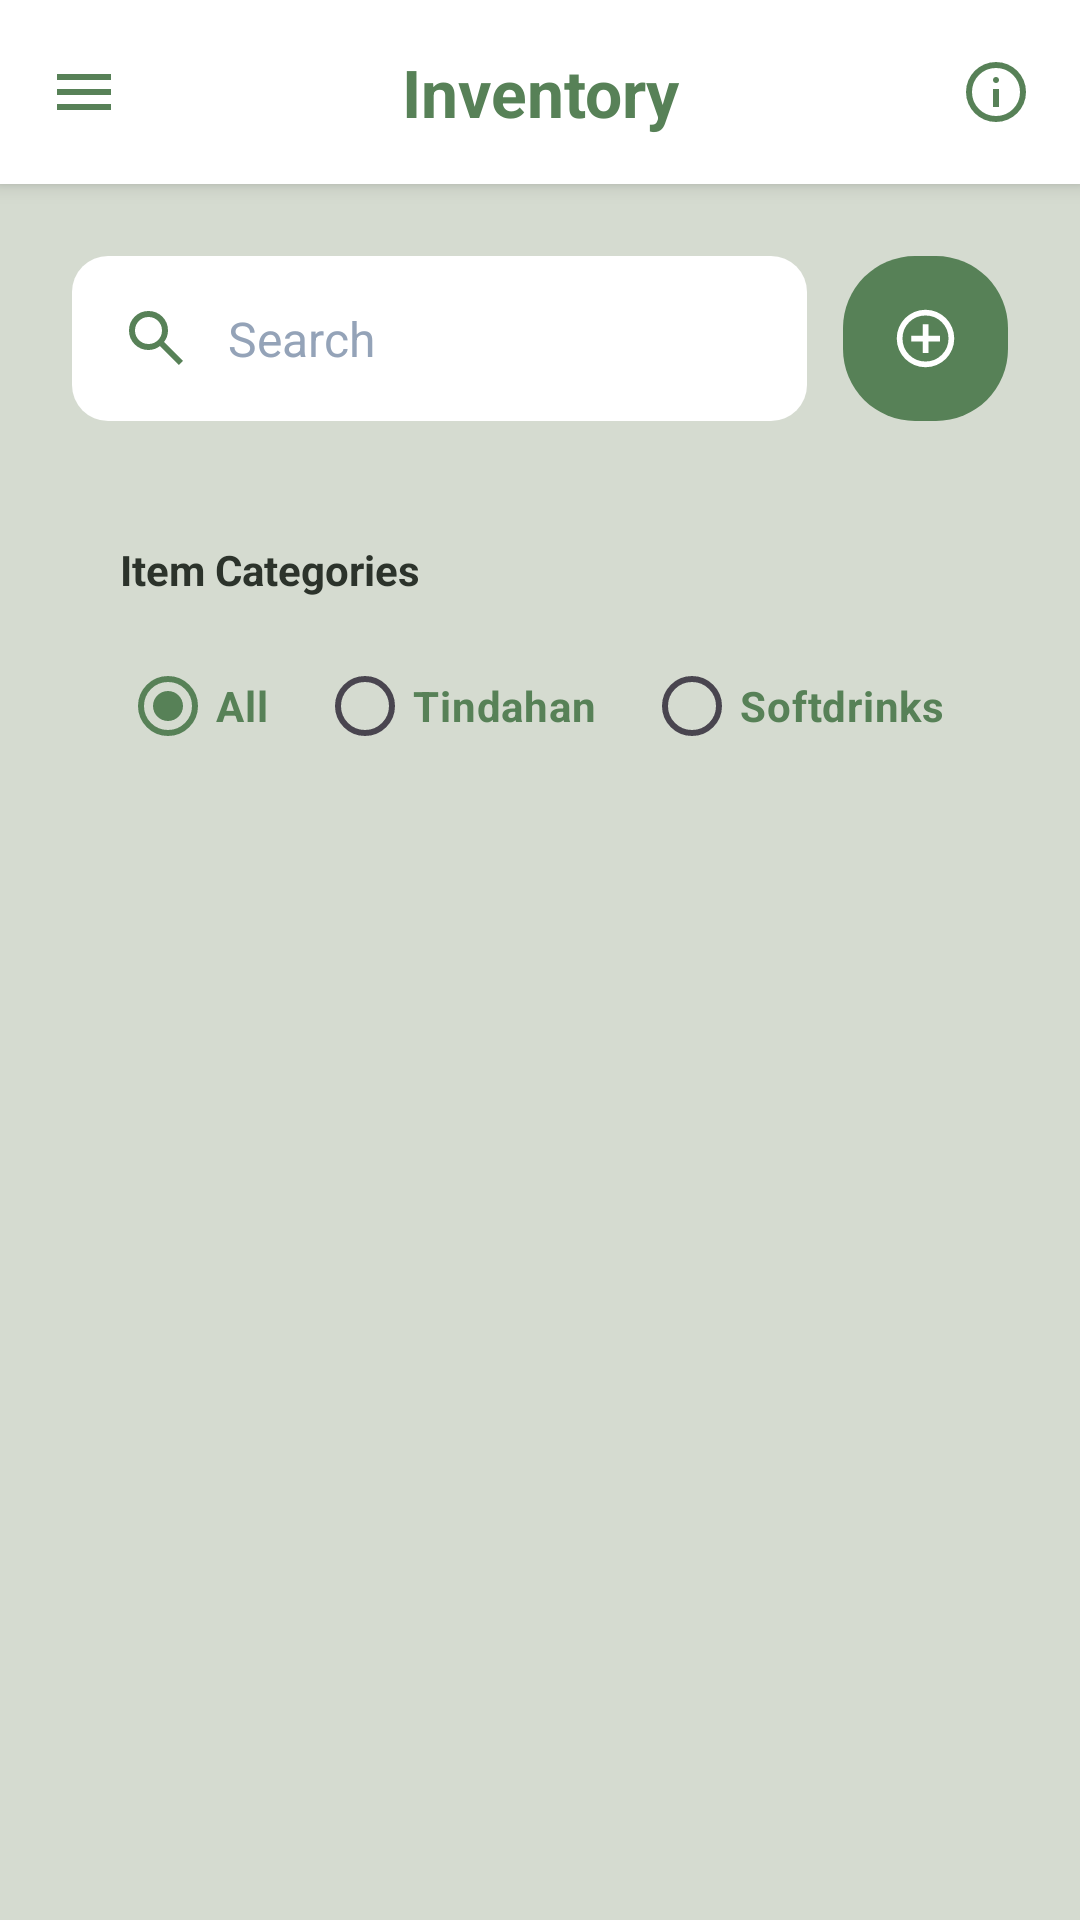

Icons on this 1080×1920 Android screen, each with the point to tap as (x,y):
add: (925,338)
info: (996,92)
menu: (84,92)
